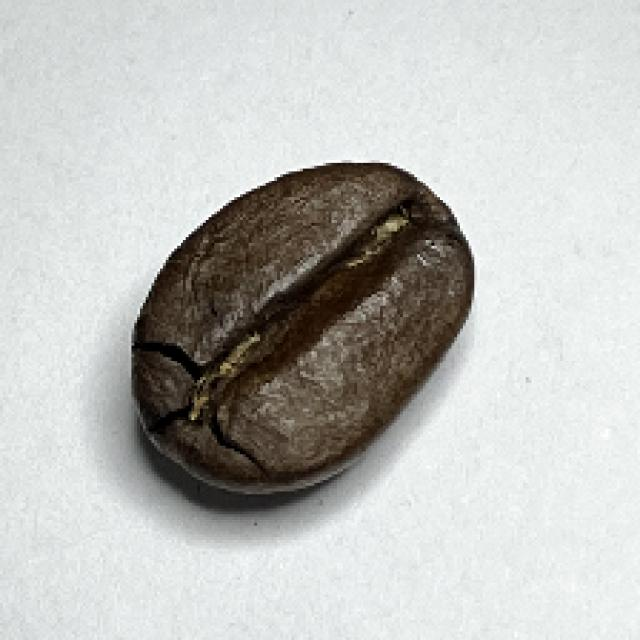bean: (124, 159, 477, 498)
